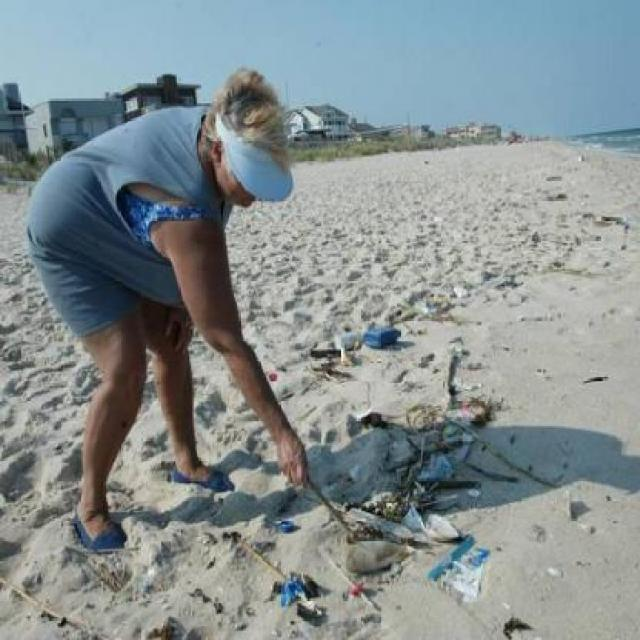garbage: (400, 491, 486, 594), (308, 305, 414, 375)
